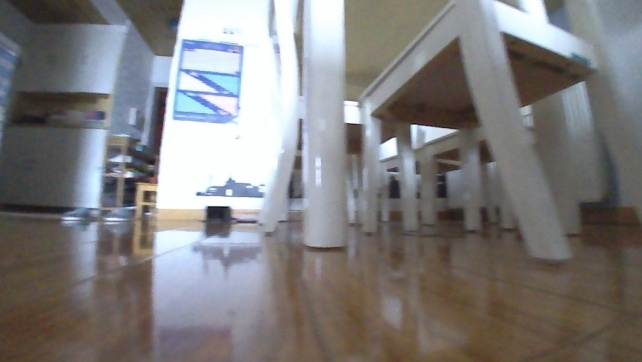dining_table1: (246, 0, 641, 261)
